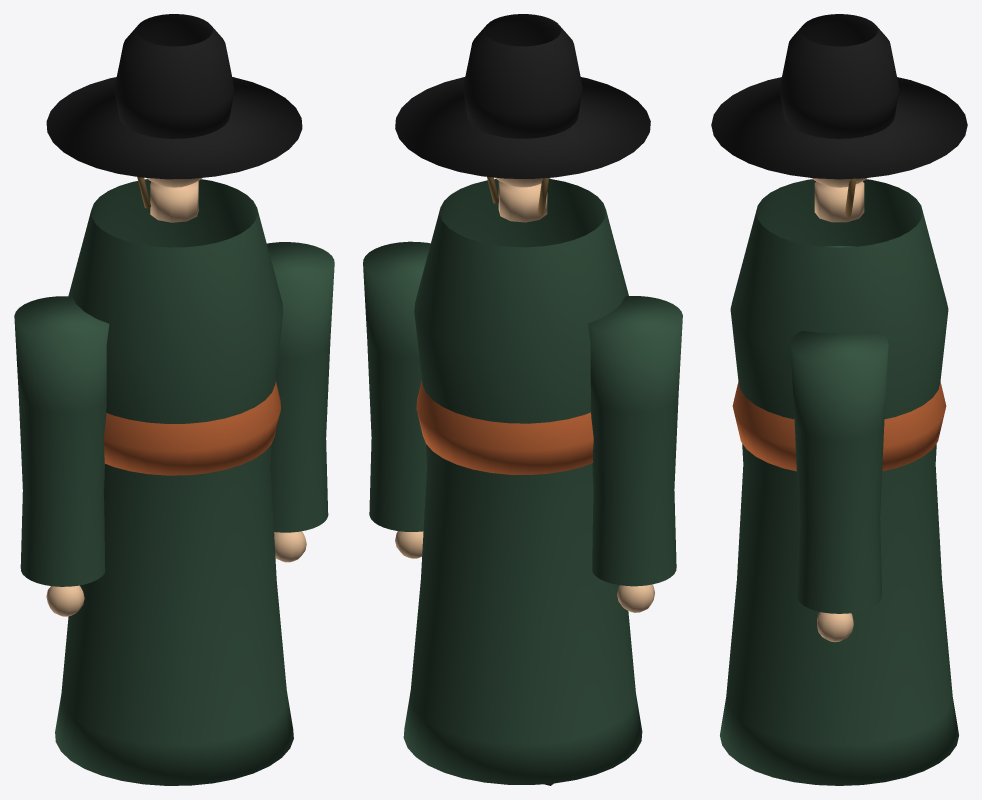
File: npc-hall-guide.glb
3 views of the same model, side by side, from view 1: azimuth 30°, elevation 25°; view 2: azimuth 150°, elevation 25°; view 3: azimuth 270°, elevation 25° (orthographic).
Visible parts, largest first — view 1: guide_durumagi_coat, guide_sleeve_left, guide_sleeve_right, guide_gat_brim, guide_gat_crown, guide_waist_sash, guide_neck, guide_hand_left, guide_hand_right; view 2: guide_durumagi_coat, guide_sleeve_left, guide_sleeve_right, guide_gat_brim, guide_gat_crown, guide_waist_sash, guide_neck, guide_hand_left, guide_hand_right; view 3: guide_durumagi_coat, guide_sleeve_right, guide_gat_brim, guide_gat_crown, guide_waist_sash, guide_neck, guide_hand_right.
Part boxes in pixels (x1,y1,x2,y2): guide_durumagi_coat: [55, 179, 293, 785]; guide_sleeve_left: [14, 296, 109, 586]; guide_sleeve_right: [267, 242, 334, 532]; guide_gat_brim: [46, 77, 302, 179]; guide_gat_crown: [114, 14, 234, 138]; guide_waist_sash: [103, 381, 280, 475]; guide_neck: [150, 181, 198, 222]; guide_hand_left: [46, 585, 84, 616]; guide_hand_right: [274, 531, 306, 562]; guide_durumagi_coat: [403, 179, 642, 784]; guide_sleeve_left: [588, 296, 682, 586]; guide_sleeve_right: [363, 241, 430, 531]; guide_gat_brim: [395, 77, 650, 178]; guide_gat_crown: [463, 14, 582, 138]; guide_waist_sash: [416, 380, 593, 474]; guide_neck: [498, 181, 547, 222]; guide_hand_left: [617, 584, 654, 612]; guide_hand_right: [395, 531, 423, 558]; guide_durumagi_coat: [720, 179, 958, 785]; guide_sleeve_right: [790, 330, 888, 613]; guide_gat_brim: [711, 77, 967, 179]; guide_gat_crown: [779, 14, 899, 138]; guide_waist_sash: [732, 382, 946, 471]; guide_neck: [814, 181, 864, 222]; guide_hand_right: [817, 612, 853, 642].
Bounding box in the file's own units: 0.83 × 1.87 × 0.6.
